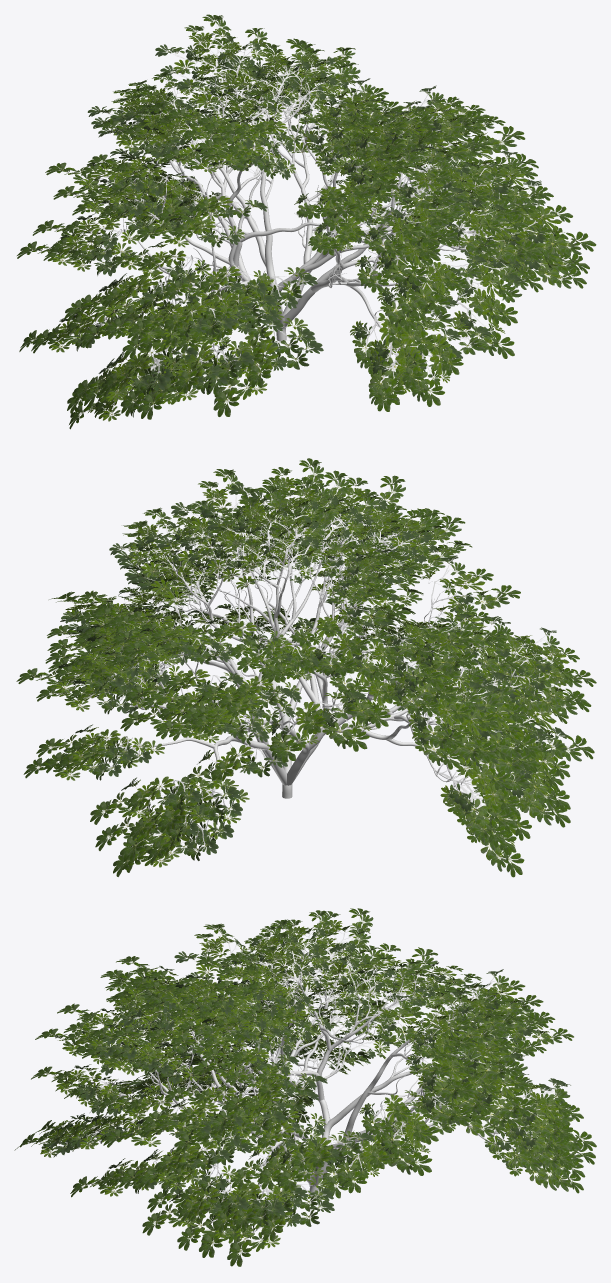
File: Dwarf Umbrella.fbx
3 renders of one model, top to bottom at view 1: azimuth 30°, elevation 25°; view 2: azimuth 150°, elevation 25°; view 3: azimuth 270°, elevation 25°, orthographic. The views are drawn at different scales.
Visible parts, largest first — view 1: tree; view 2: tree; view 3: tree.
Boxes of the visible parts, x1=… form: tree: x1=17, y1=14, x2=596, y2=429; tree: x1=16, y1=458, x2=596, y2=877; tree: x1=14, y1=908, x2=596, y2=1266.
Size of the model in its own units: 723 by 410 by 779.
